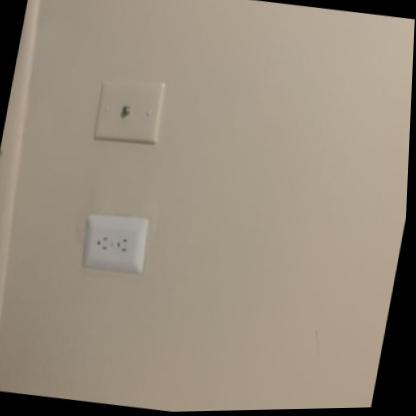OUTLET: (80, 209, 152, 275)
